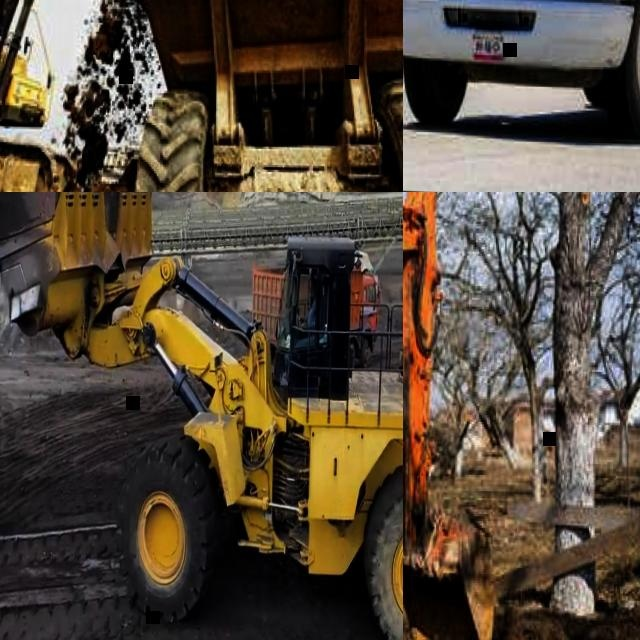NO-Hardhat: (310, 277, 318, 287)
NO-Mask: (309, 289, 315, 298)
NO-Safety Vest: (307, 300, 316, 328)
Person: (294, 275, 318, 344)
machinery: (0, 192, 403, 640), (0, 0, 380, 192), (119, 0, 403, 192), (403, 192, 505, 640), (403, 0, 640, 143), (246, 240, 382, 368)
